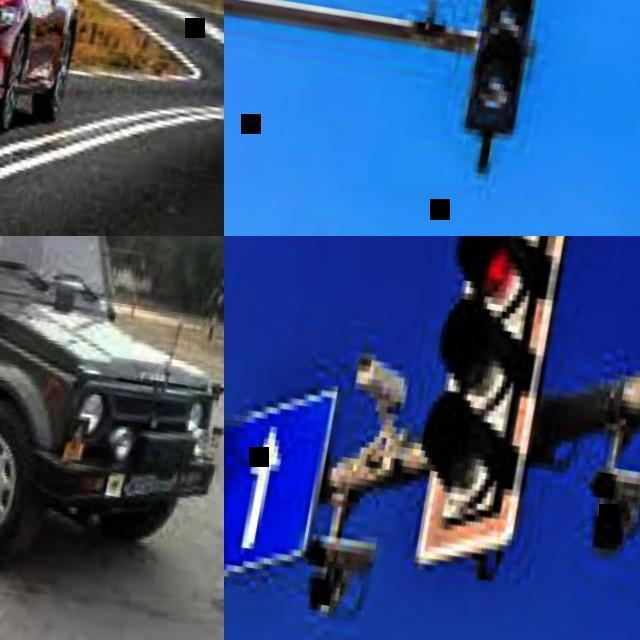car: (0, 240, 216, 557)
